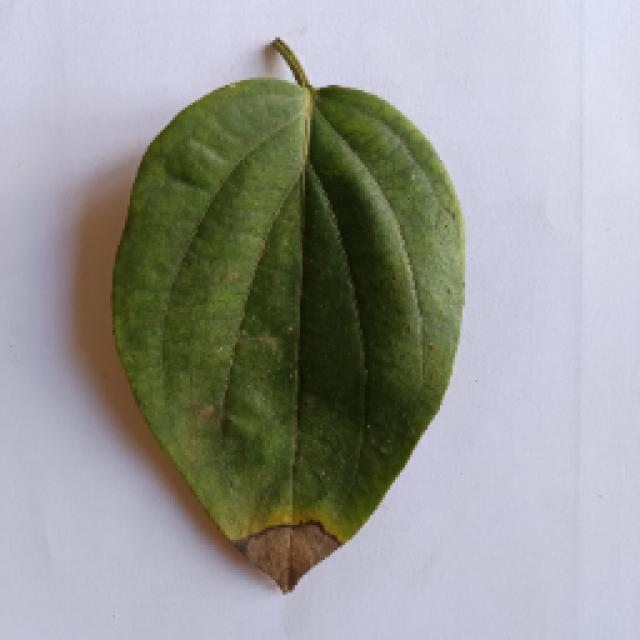footrot: (93, 45, 475, 590)
